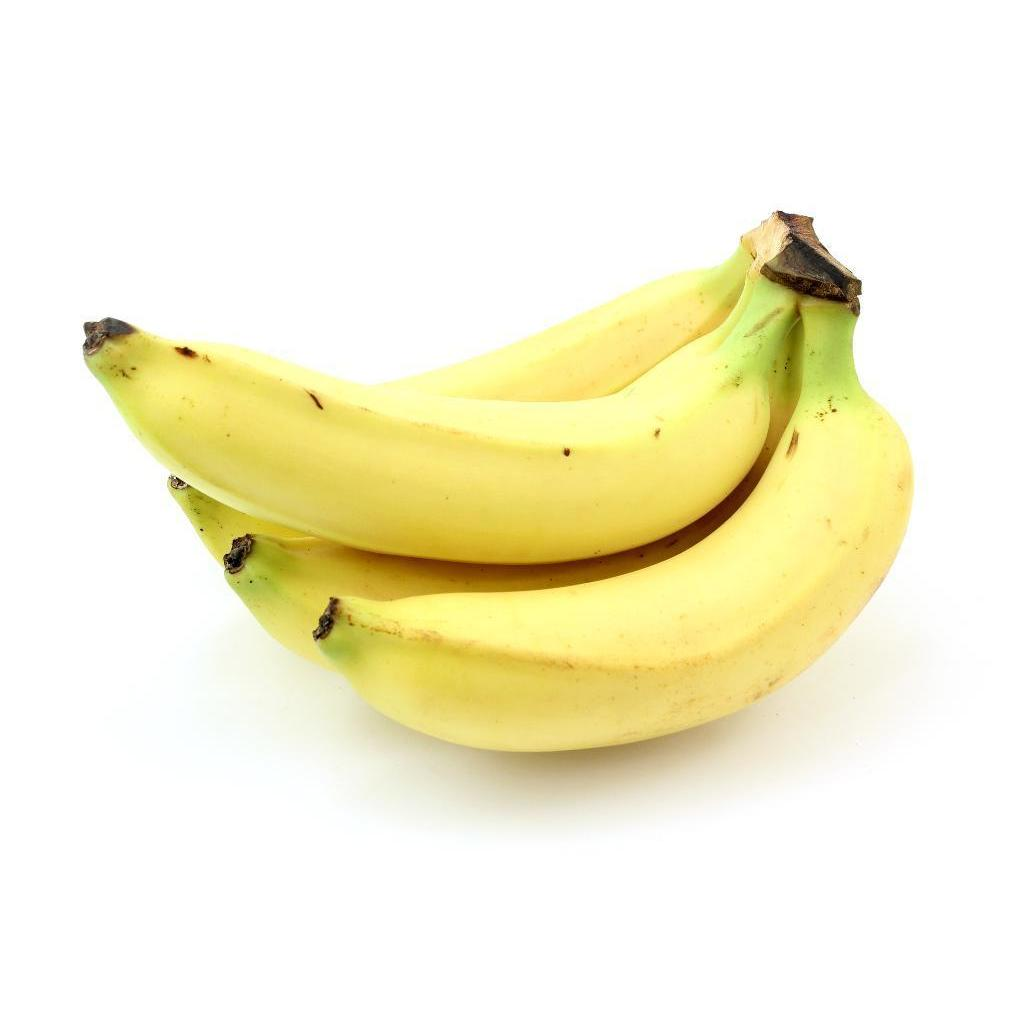banana: (311, 211, 916, 755), (83, 268, 803, 567)
